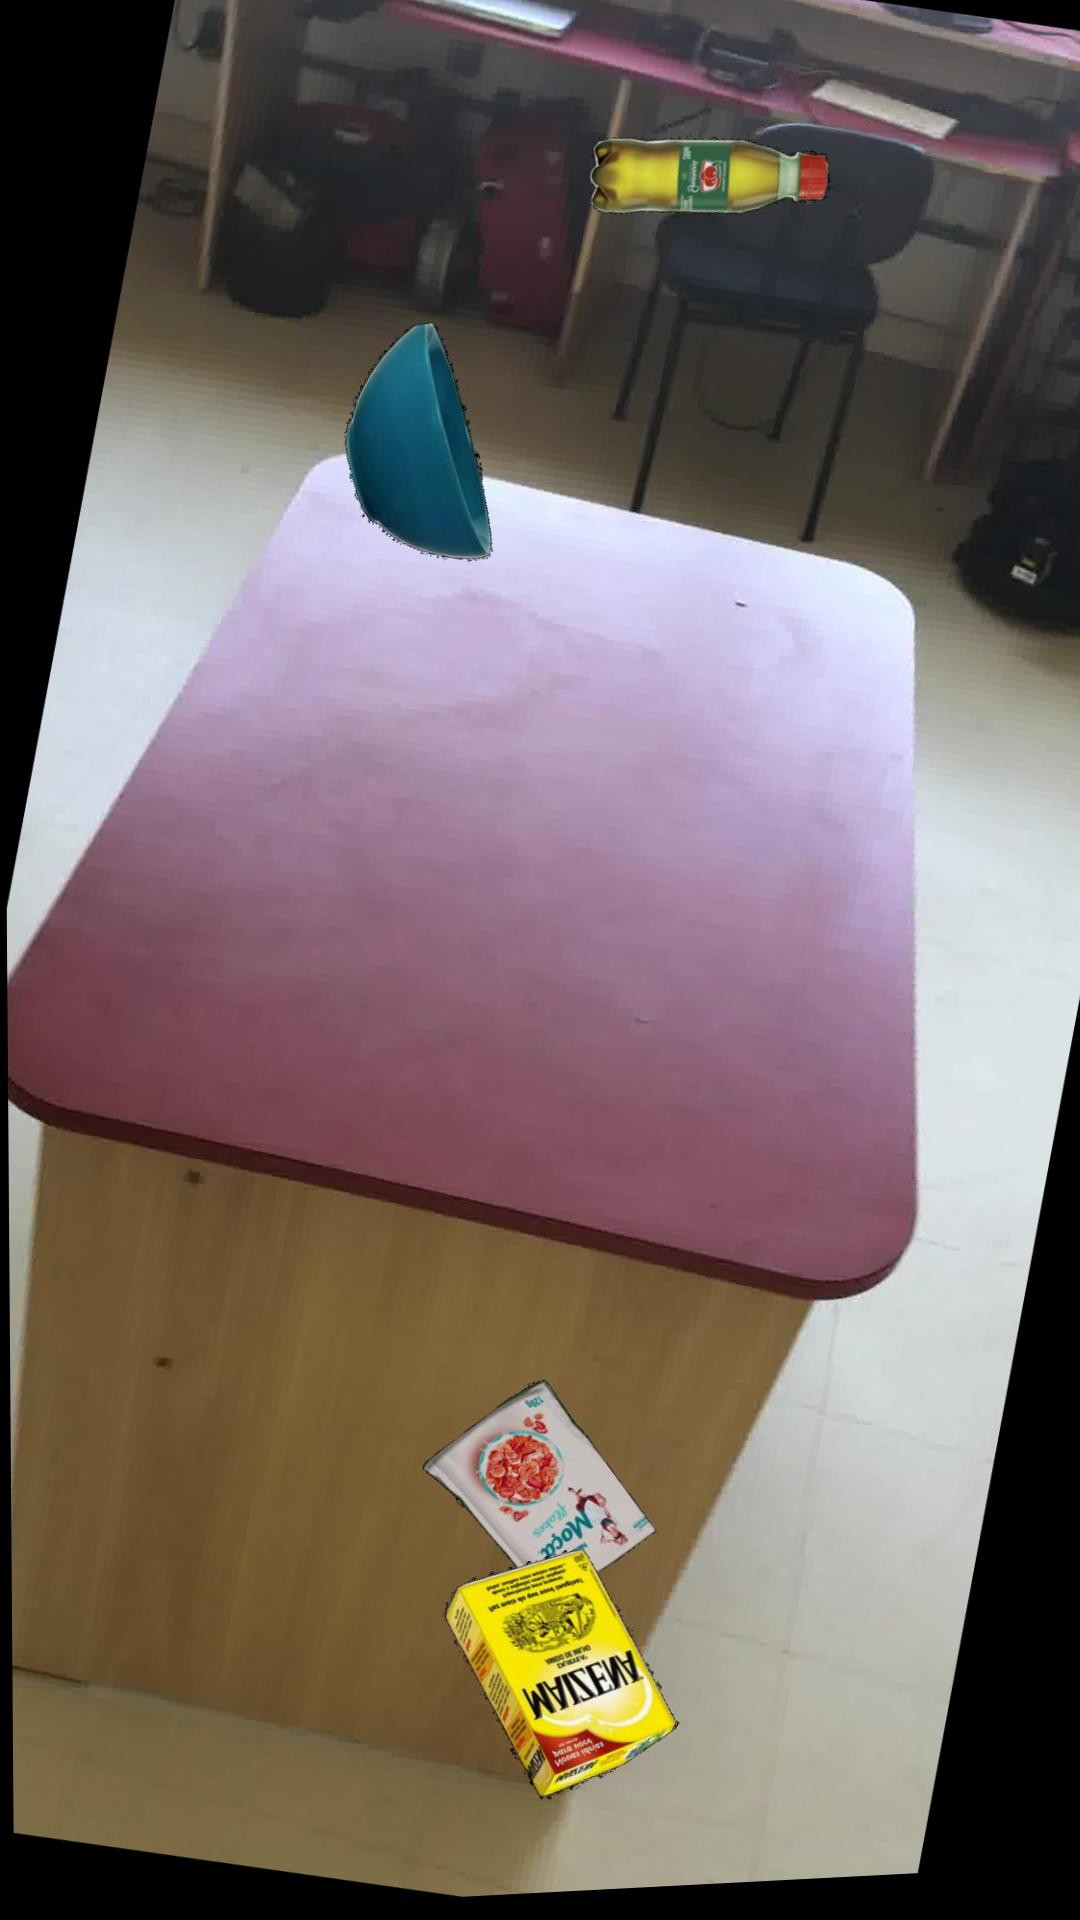bowl: (343, 326, 489, 563)
corn flakes: (419, 1383, 653, 1578)
guarana: (587, 142, 828, 220)
